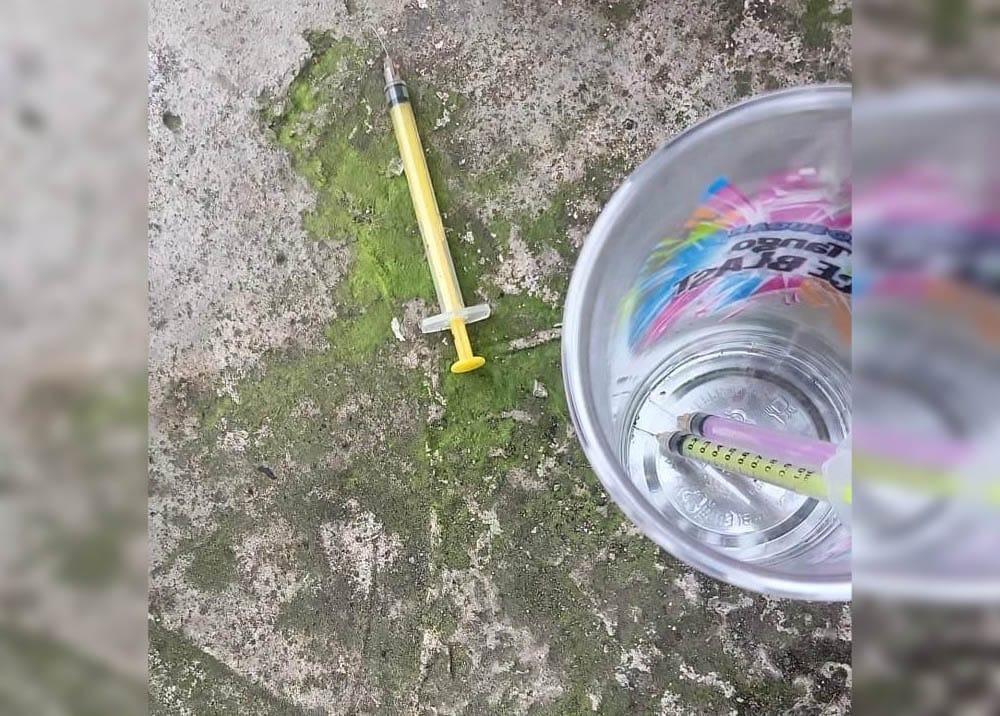Syringe: (384, 52, 489, 372)
